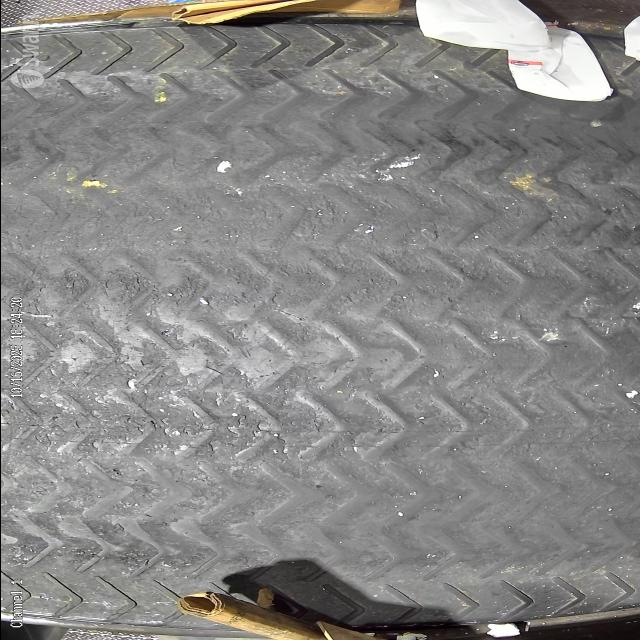milk_jug: (508, 21, 613, 102), (414, 0, 550, 51)
